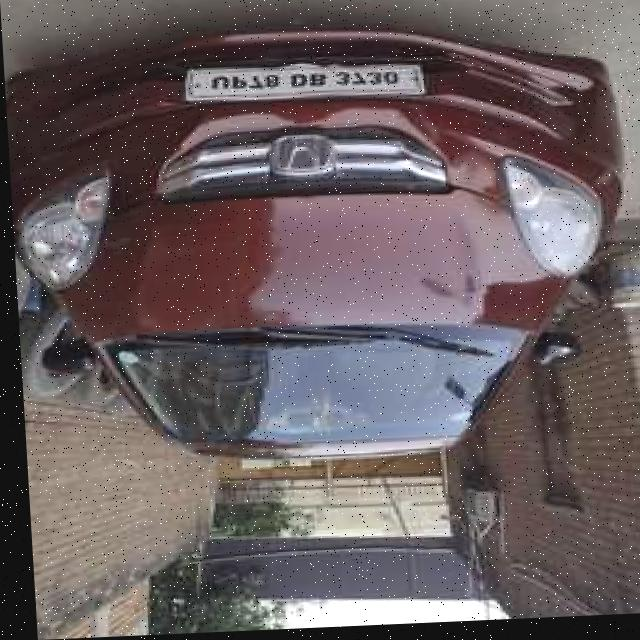plate: (182, 57, 431, 108)
